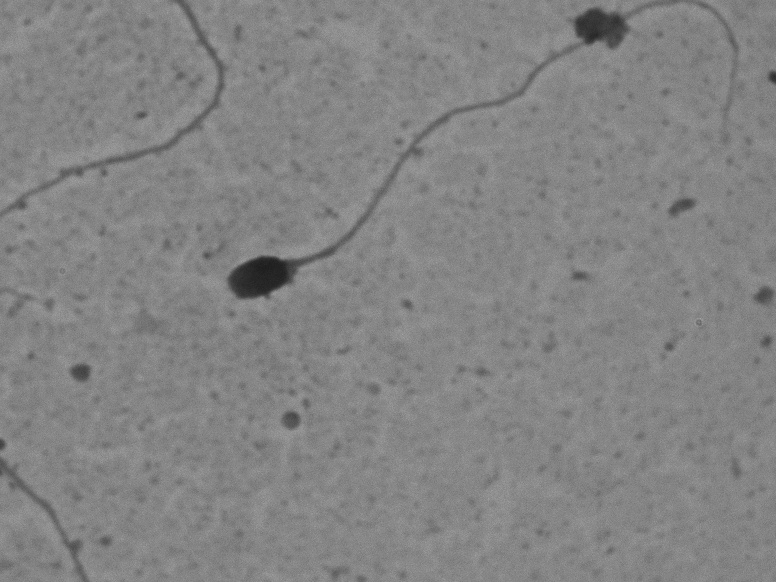Normal: (224, 2, 753, 311)
